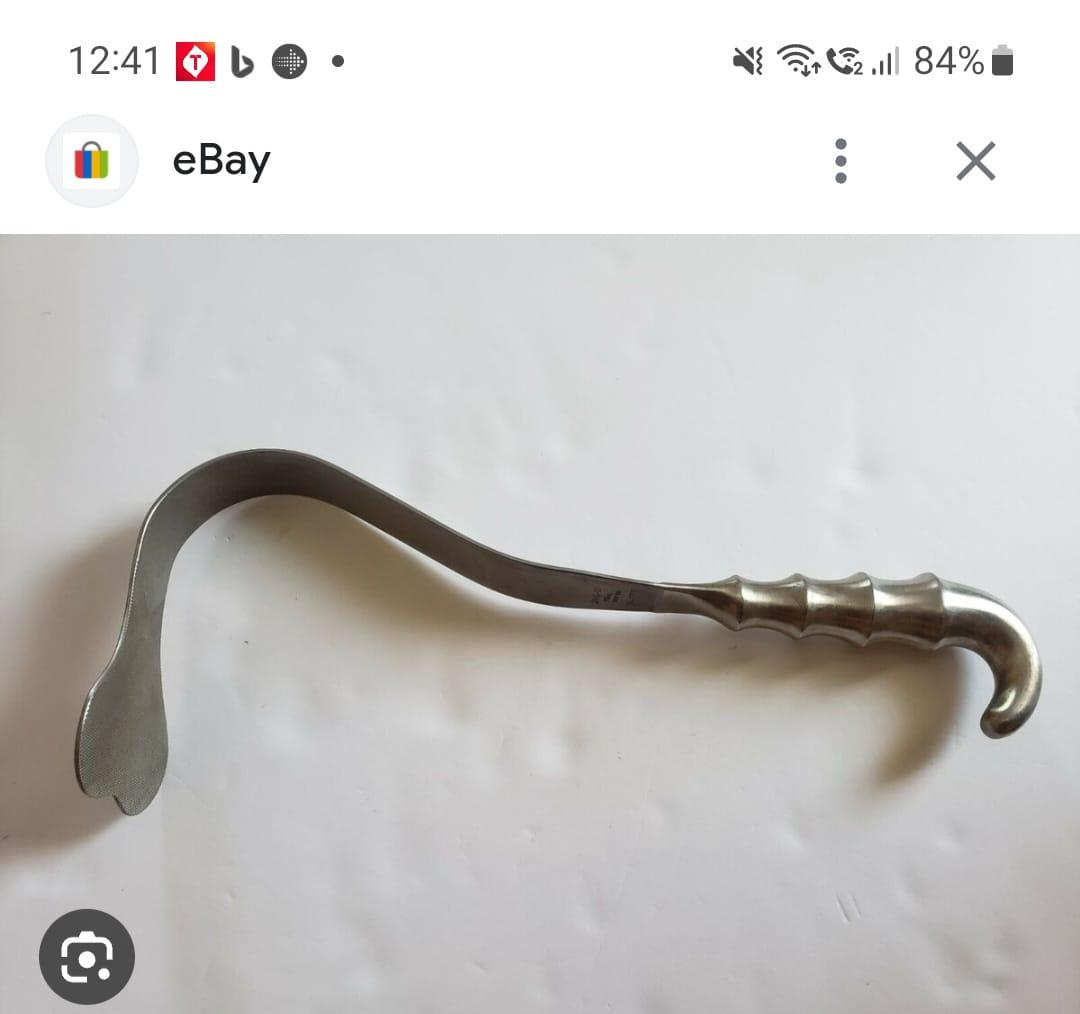Harrington Retractor: (52, 428, 1048, 838)
